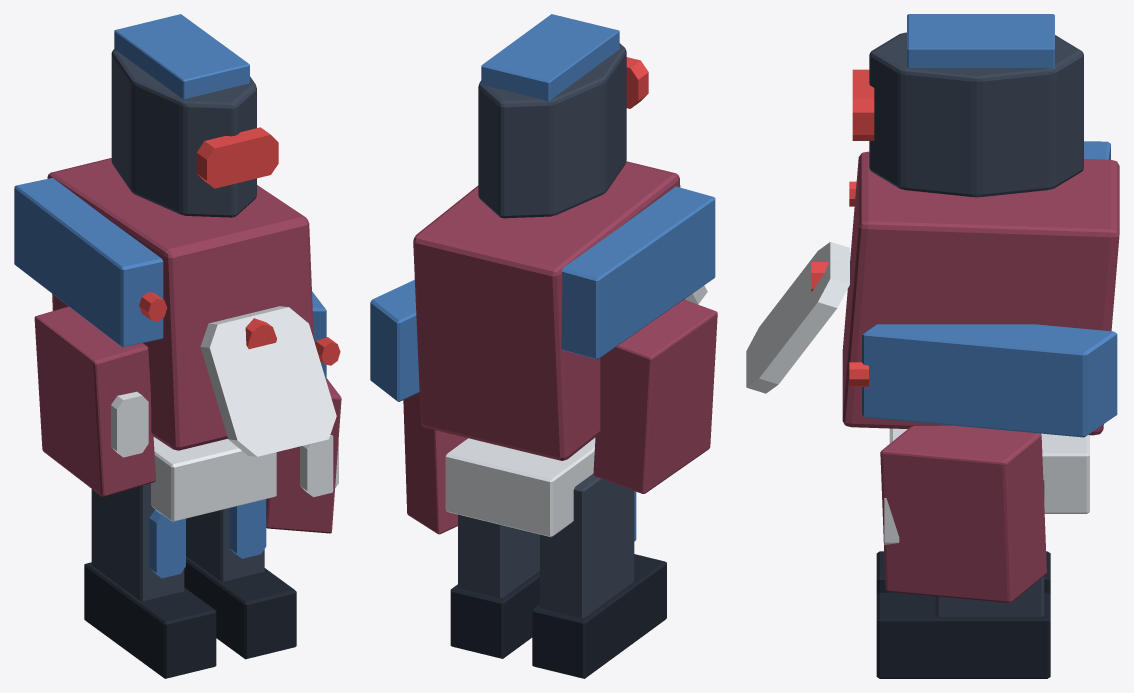
Rendered from enemy_standard__critical.glb.
3 renders of one model, left to right at view 1: azimuth 30°, elevation 25°; view 2: azimuth 150°, elevation 25°; view 3: azimuth 270°, elevation 25°, orthographic. The views are drawn at different scales.
Visible parts, largest first — view 1: ROLE_threat, ROLE_accent, ROLE_secondary, ROLE_primary, ROLE_rubber, ROLE_critical; view 2: ROLE_threat, ROLE_primary, ROLE_accent, ROLE_rubber, ROLE_secondary, ROLE_critical; view 3: ROLE_threat, ROLE_accent, ROLE_primary, ROLE_rubber, ROLE_secondary, ROLE_critical.
Boxes of the visible parts, x1,y1,x2,y2 form: ROLE_threat: [34, 158, 341, 533]; ROLE_accent: [14, 14, 326, 578]; ROLE_secondary: [111, 306, 338, 521]; ROLE_primary: [91, 49, 264, 601]; ROLE_rubber: [84, 556, 296, 678]; ROLE_critical: [139, 127, 340, 365]; ROLE_threat: [403, 161, 717, 534]; ROLE_primary: [458, 43, 634, 618]; ROLE_accent: [370, 14, 715, 541]; ROLE_rubber: [450, 554, 666, 678]; ROLE_secondary: [445, 285, 707, 537]; ROLE_critical: [626, 57, 648, 108]; ROLE_threat: [842, 151, 1119, 602]; ROLE_accent: [862, 14, 1117, 437]; ROLE_primary: [869, 32, 1083, 616]; ROLE_rubber: [876, 551, 1050, 678]; ROLE_secondary: [746, 242, 1089, 545]; ROLE_critical: [811, 69, 874, 386].
Size of the model in its own units: 2.13 by 4.54 by 2.5.
